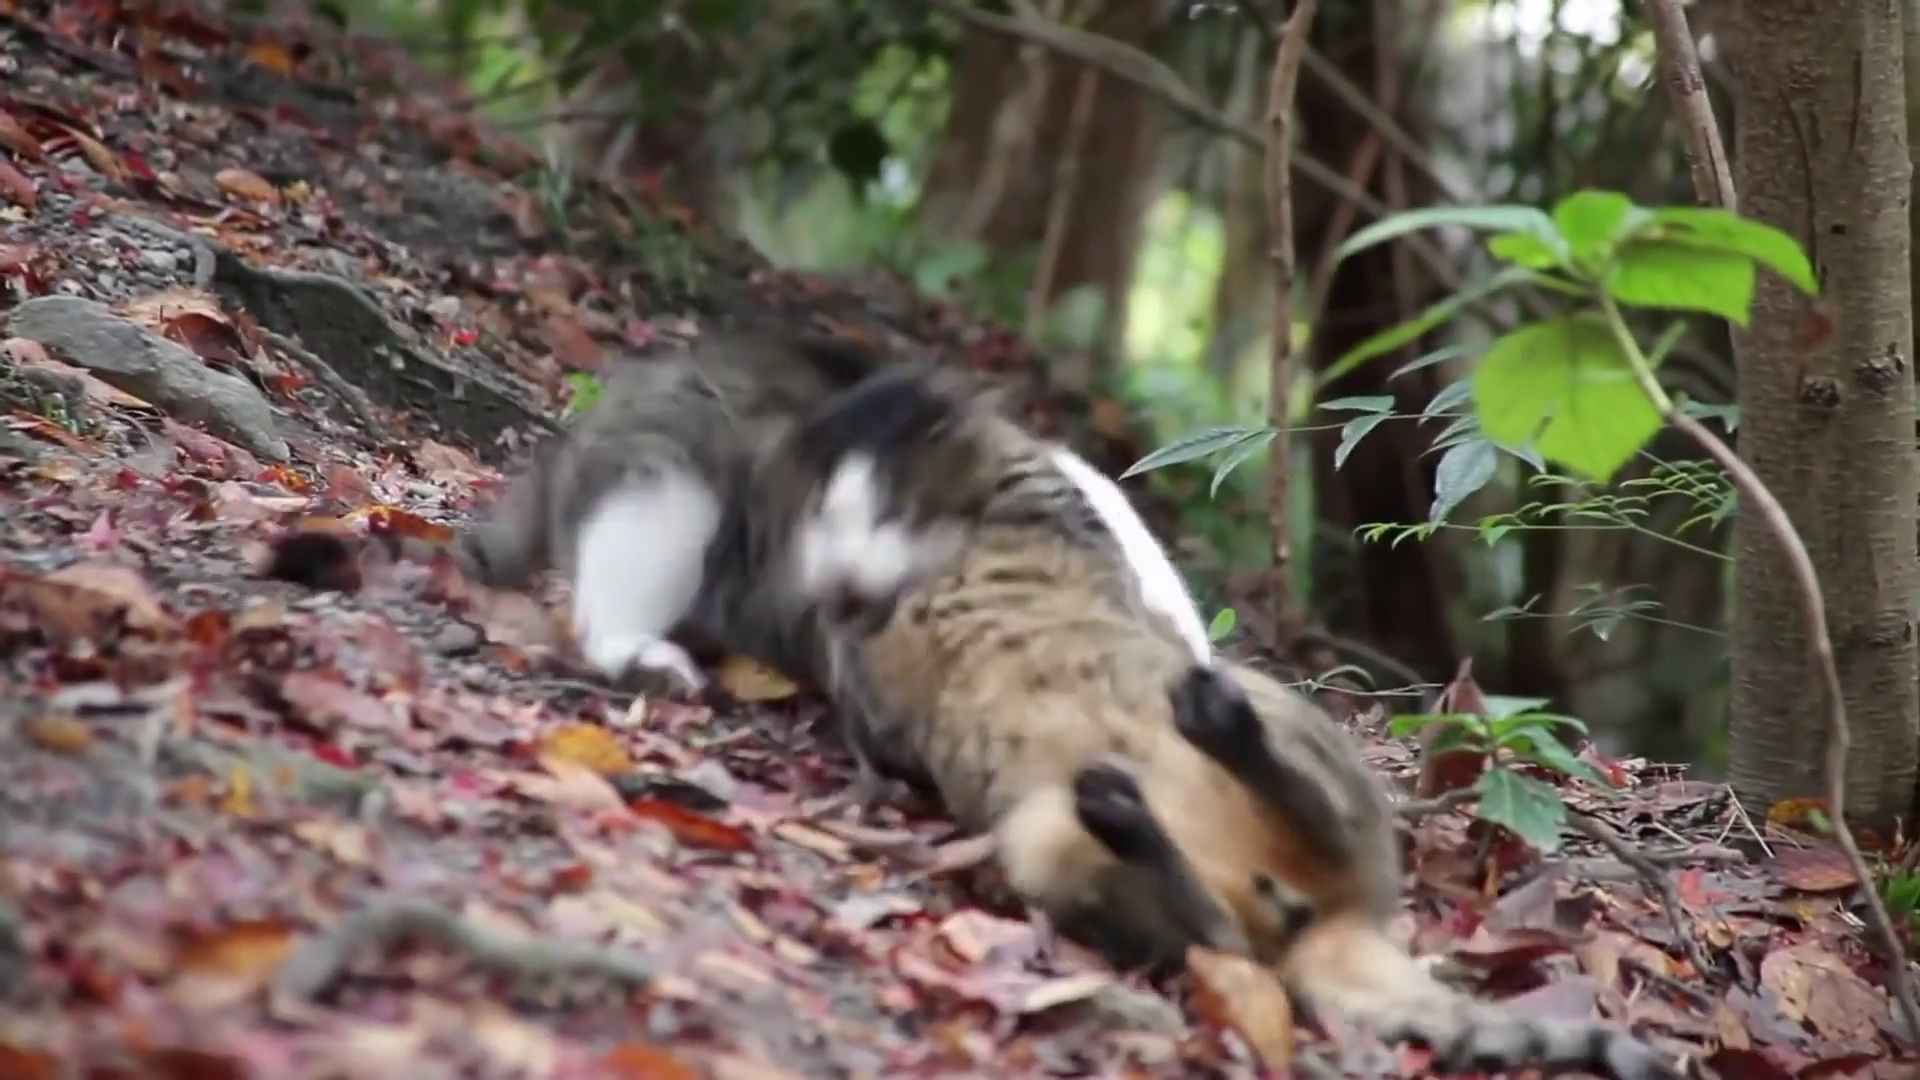black-white: (454, 347, 1033, 699)
pure black: (833, 446, 1665, 1071)
